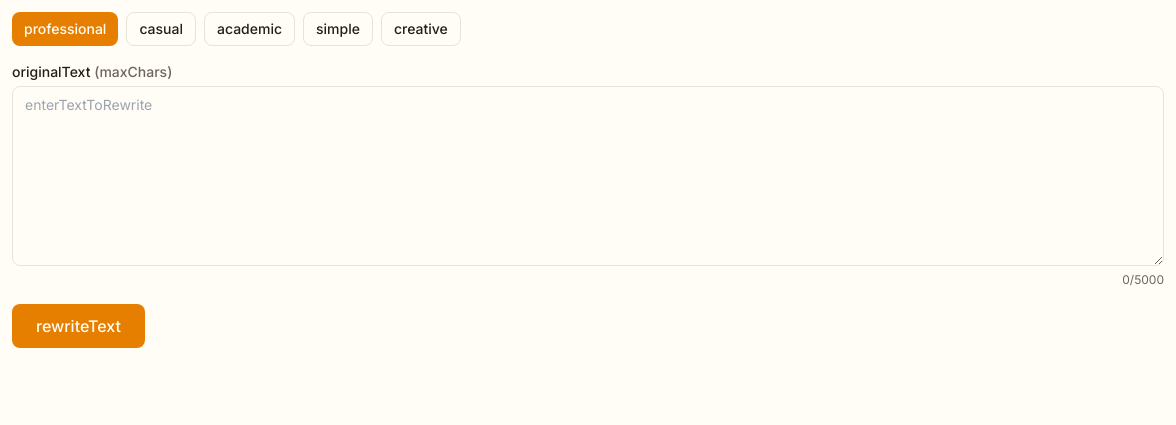
Scenario: TextRewriter › shows error for empty input
# Find the rewrite/submit button
What coordinates should you click on to do the following:
click the button "rewriteText"
I would click on:
 (78, 326)
Its box is [12,304,145,348].
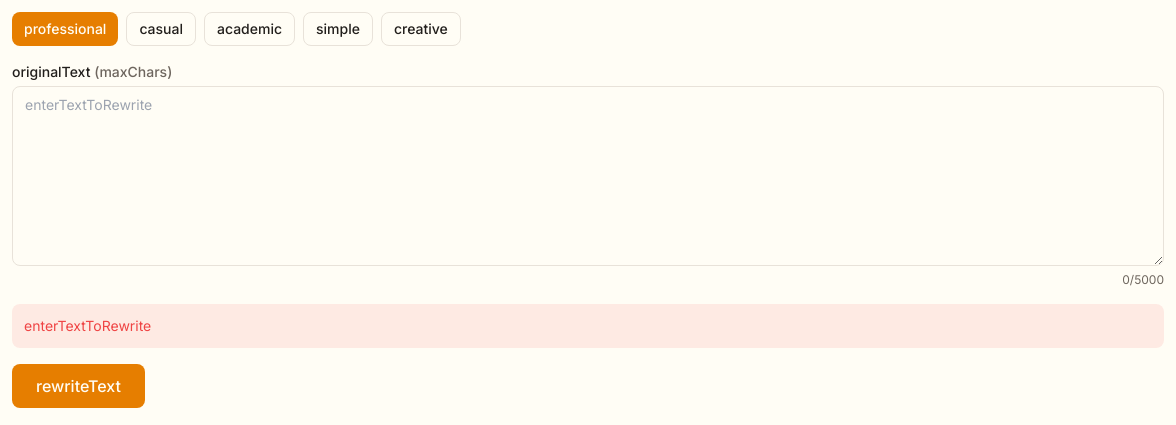
Now the text "enterTextToRewrite" is shown, box [12,304,1164,348]
